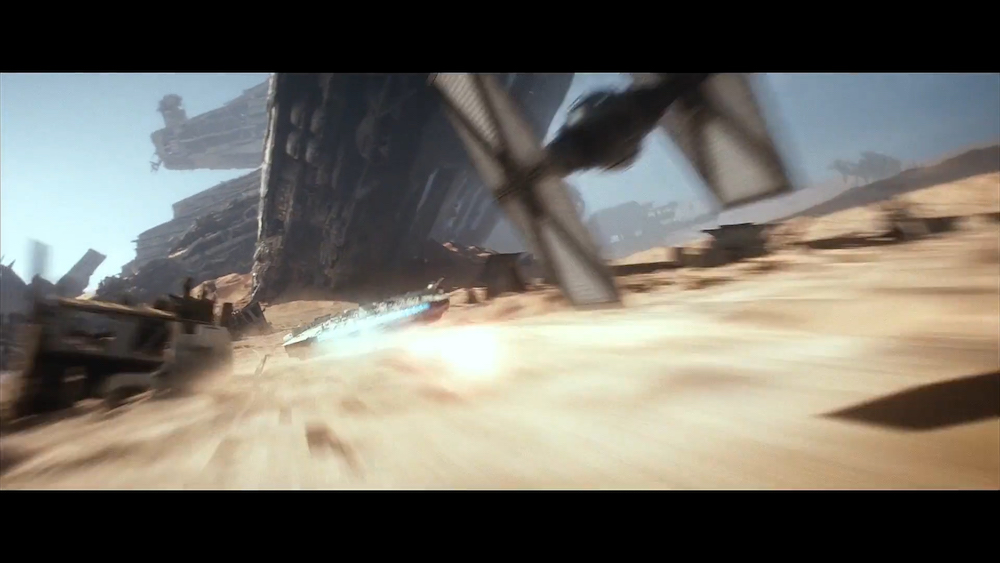Millennium Falcon: (281, 283, 452, 362)
Tie Fighter: (425, 74, 803, 312)
